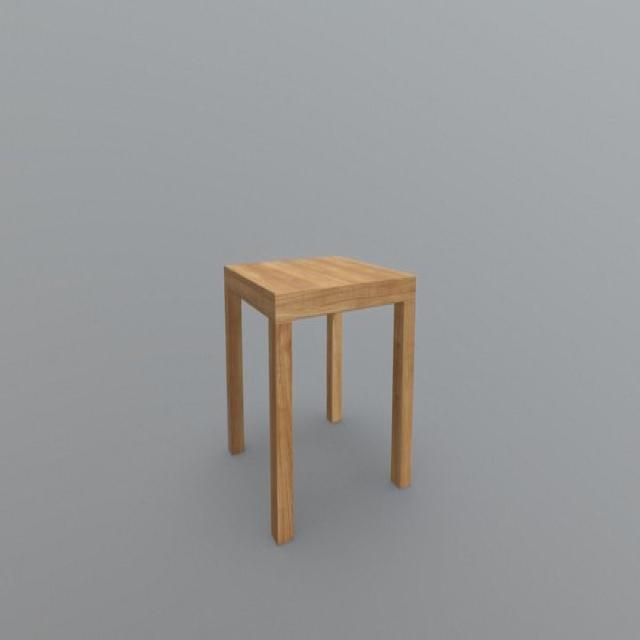table: (222, 252, 418, 545)
